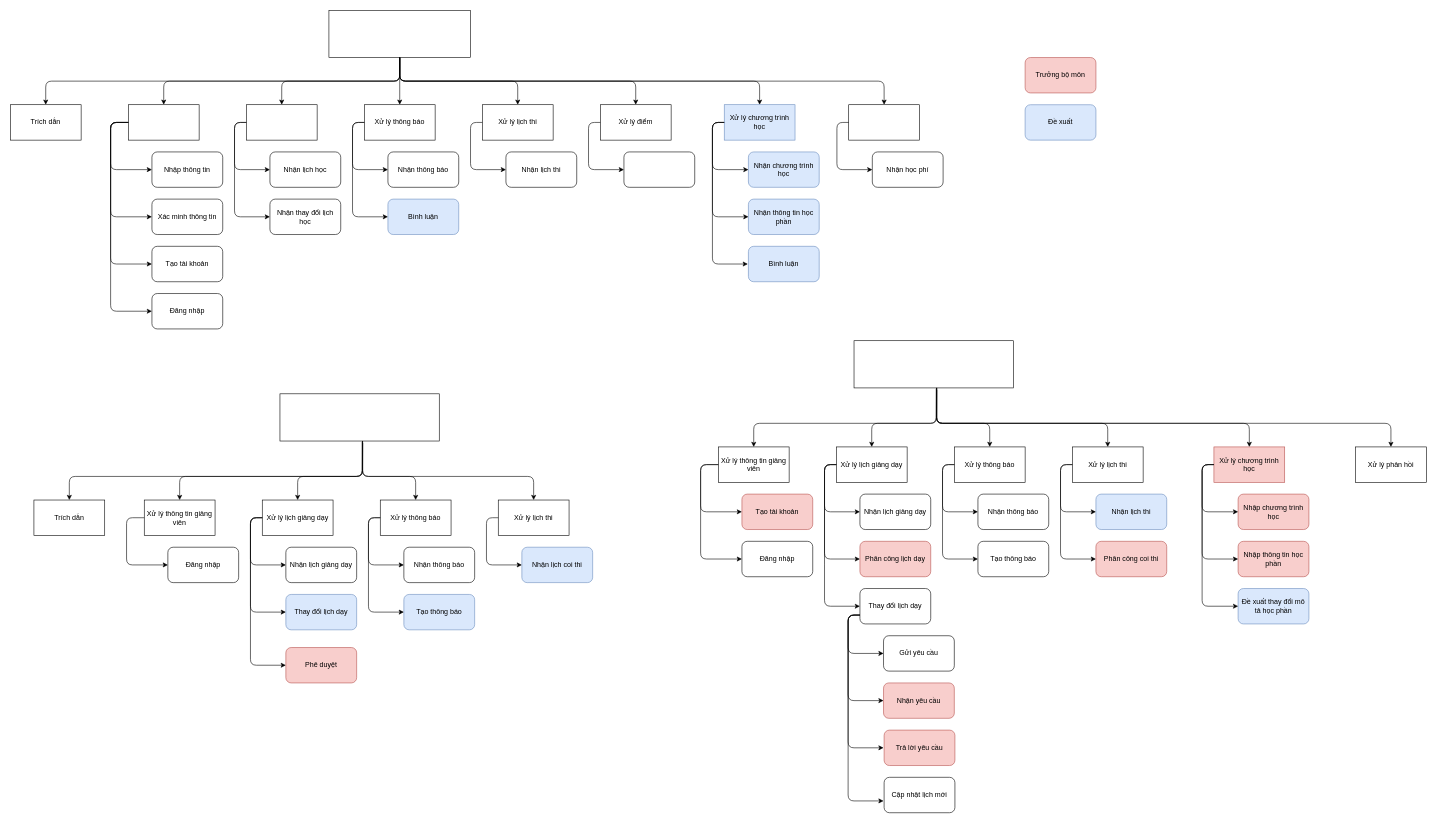
Some shapes in this 1437 by 823 pixel diagram are drawn without their labels. The shapes that lost their labels are listed below. From the top down, each one's centre as x and y in pixels, then its label:
[399,34]: App Quản lý đào tạo cho sinh viên
[163,122]: Xử lý thông tin sinh viên
[281,122]: Xử lý lịch học
[884,122]: Xử lý học phí
[659,169]: Nhận điểm
[933,364]: Web - Giảng viên
[359,417]: App Quản lý đào tạo cho giảng viên
